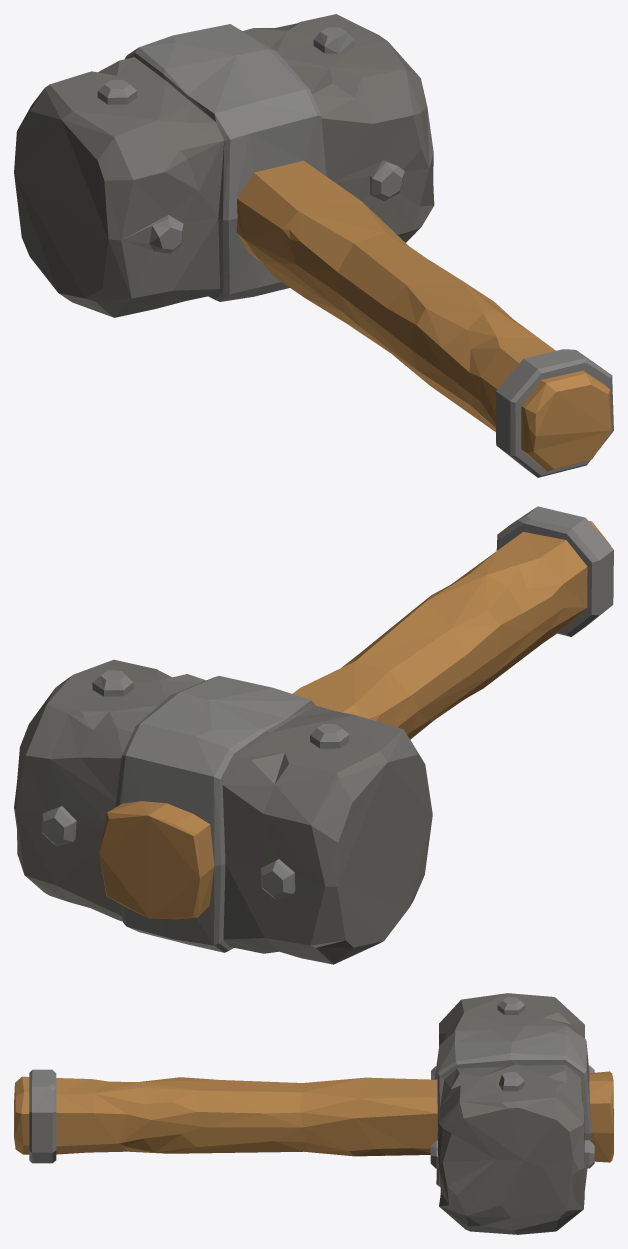
The model's file is MedievalSledgehammer.fbx.
The picture shows the model from 3 angles, top to bottom: view 1: azimuth 30°, elevation 25°; view 2: azimuth 150°, elevation 25°; view 3: azimuth 270°, elevation 25°; orthographic projection. The views are drawn at different scales.
Visible parts, largest first — view 1: MedievalSledgehammer; view 2: MedievalSledgehammer; view 3: MedievalSledgehammer.
Boxes of the visible parts, <box> form: MedievalSledgehammer: <box>14,14,613,477</box>; MedievalSledgehammer: <box>14,506,613,964</box>; MedievalSledgehammer: <box>14,993,613,1234</box>.
Bounding box in the file's own units: 0.3363 × 0.7449 × 0.2113.
